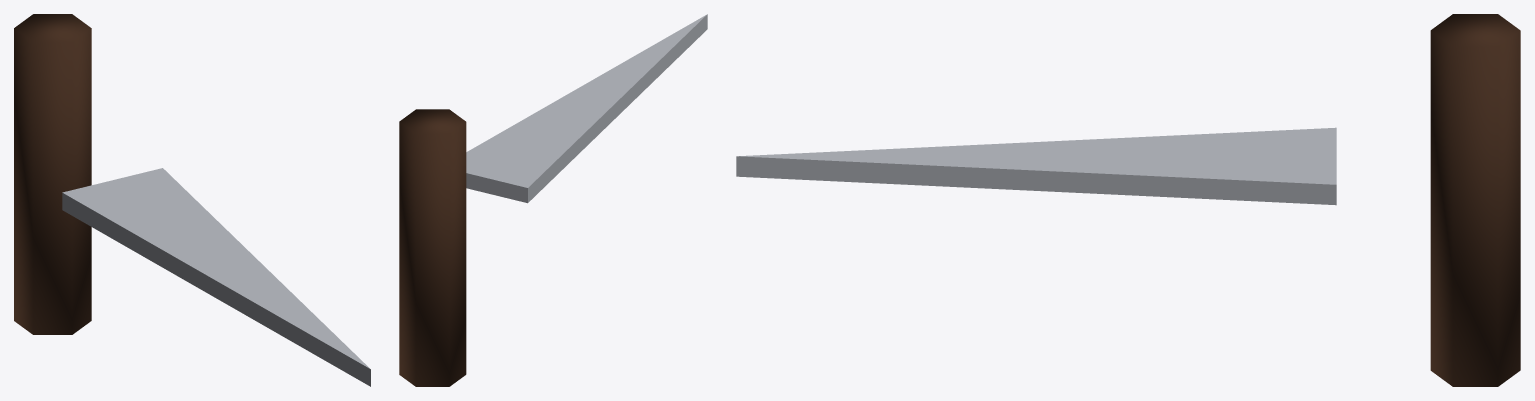
File: throwing_knife.glb
3 views of the same model, side by side, from view 1: azimuth 30°, elevation 25°; view 2: azimuth 150°, elevation 25°; view 3: azimuth 270°, elevation 25° (orthographic). The views are drawn at different scales.
Parts seen in each view (by area): view 1: throwing_knife_v0; view 2: throwing_knife_v0; view 3: throwing_knife_v0.
Boxes of the visible parts, x1,y1,x2,y2 form: throwing_knife_v0: [14, 14, 370, 386]; throwing_knife_v0: [399, 14, 707, 386]; throwing_knife_v0: [736, 14, 1520, 386].
Size of the model in its own units: 0.036 by 0.1 by 0.209.
